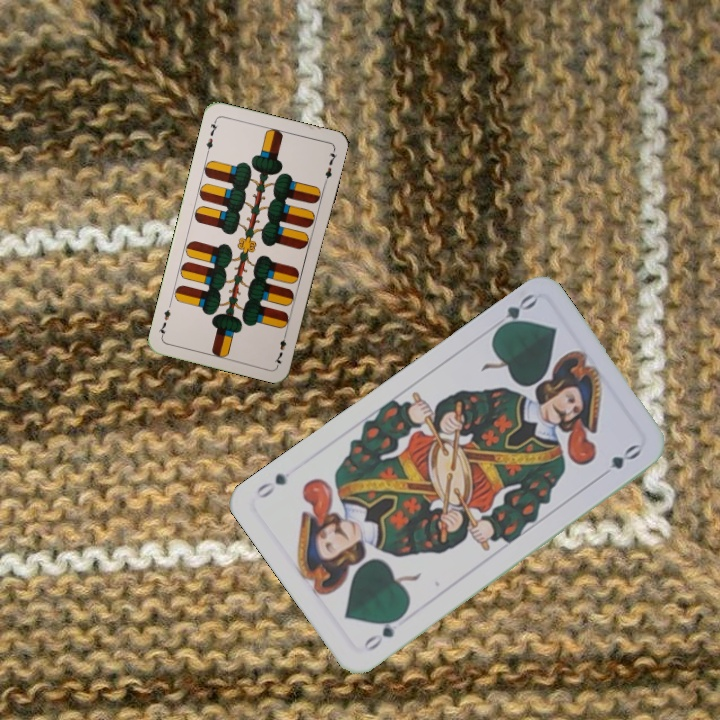E7: (270, 328, 290, 368), (202, 116, 221, 156)
GO: (490, 290, 540, 336), (359, 610, 407, 655)
